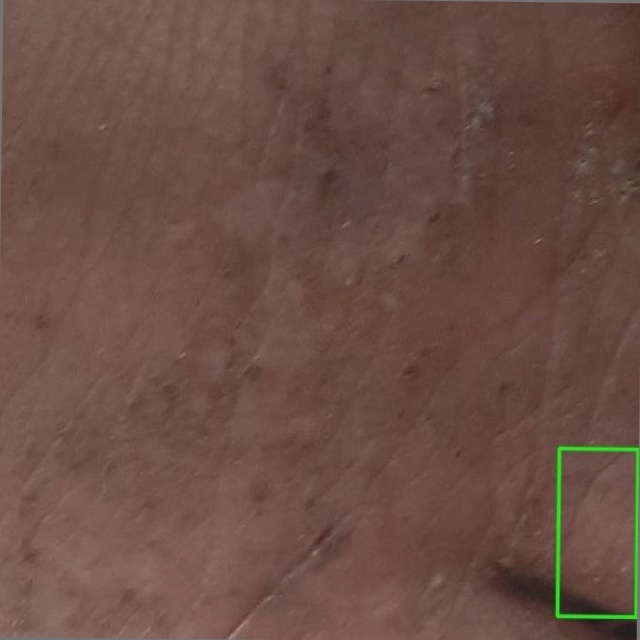Eczema: (557, 448, 638, 617)
